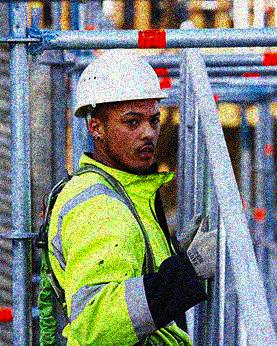helmet: (70, 50, 169, 169)
